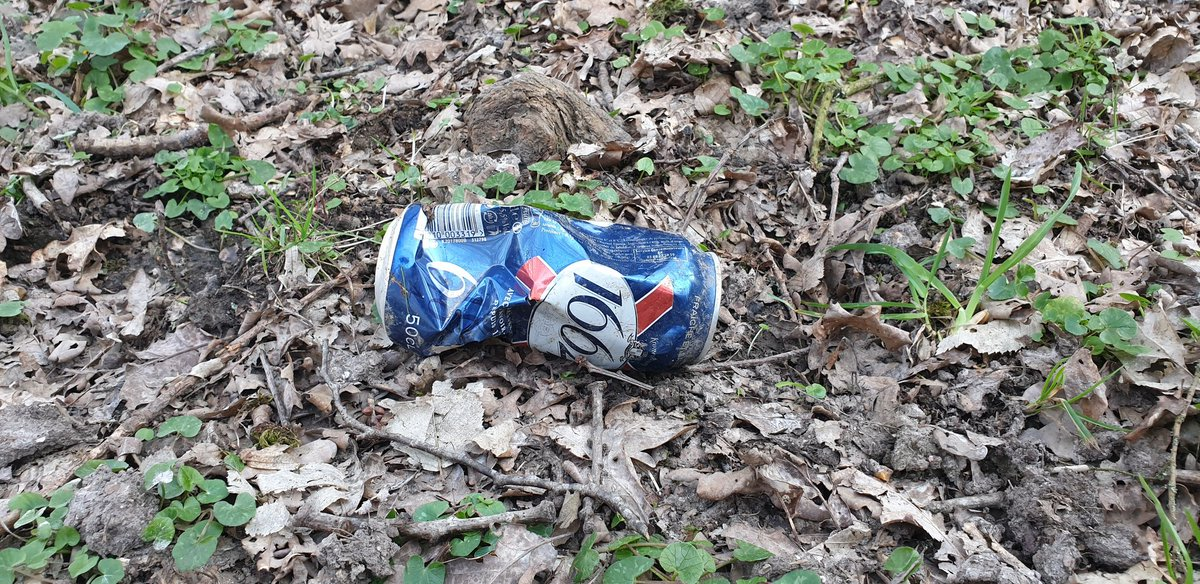can: (358, 156, 752, 407)
